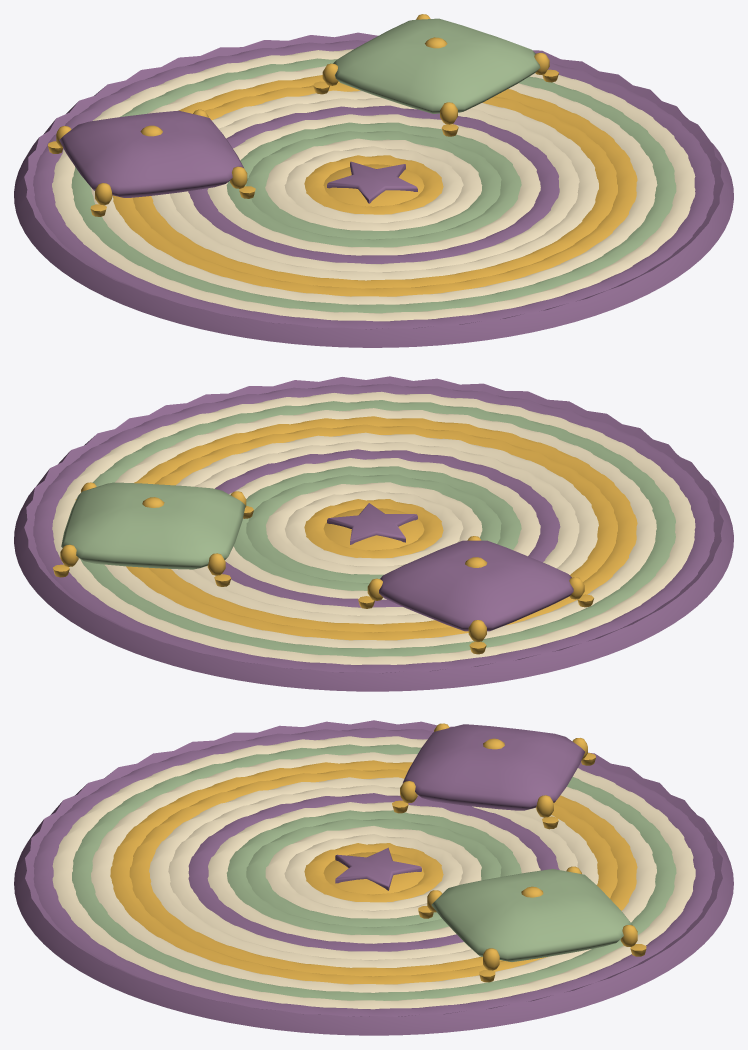
Rendered from ShopPlayMat.fbx.
The picture shows the model from 3 angles, top to bottom: view 1: azimuth 30°, elevation 25°; view 2: azimuth 150°, elevation 25°; view 3: azimuth 270°, elevation 25°; orthographic projection.
Visible parts, largest first — view 1: ShopPlayMat; view 2: ShopPlayMat; view 3: ShopPlayMat.
Boxes of the visible parts, x1,y1,x2,y2 form: ShopPlayMat: (14, 14, 733, 347); ShopPlayMat: (14, 376, 733, 691); ShopPlayMat: (14, 720, 733, 1035).
Bounding box in the file's own units: 3 × 0.295 × 3.
